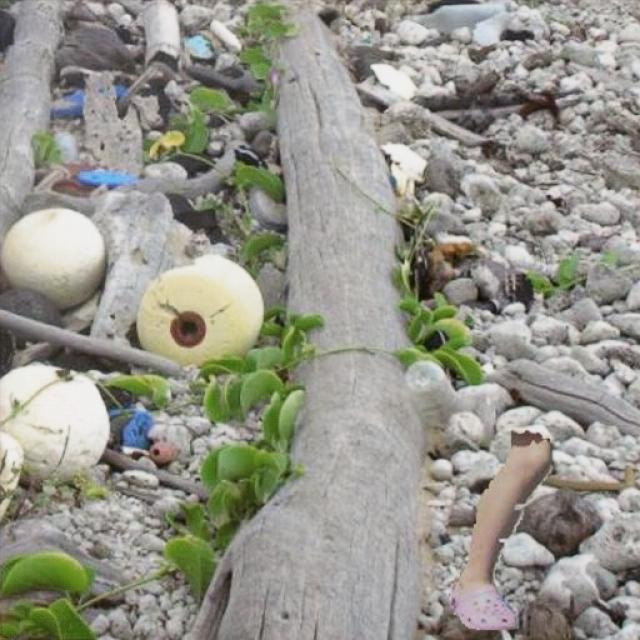Person in Rubble: (448, 430, 552, 629)
